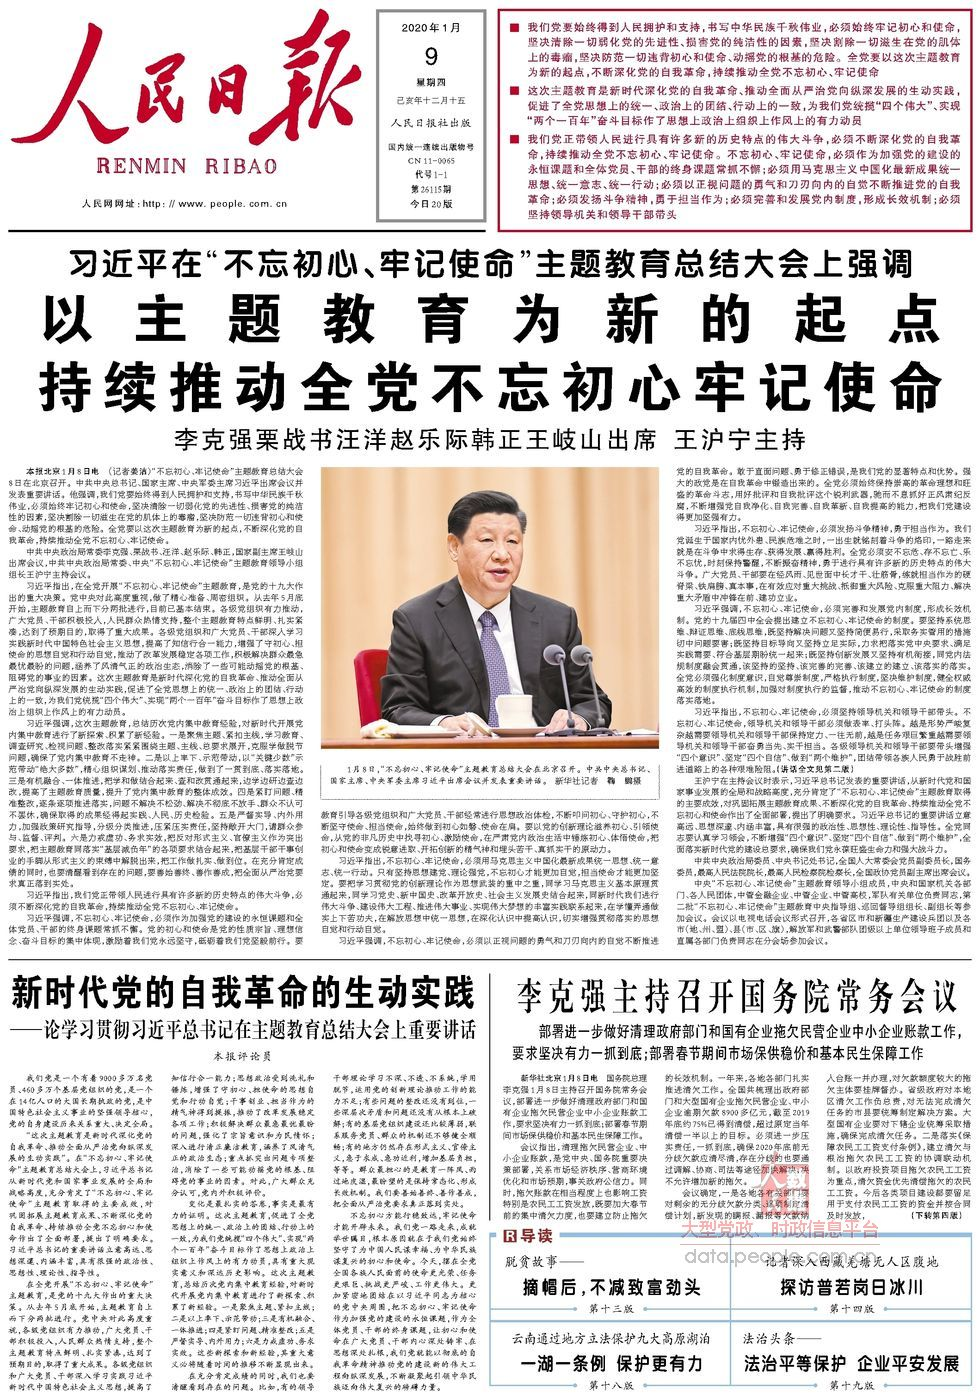pic: (317, 462, 664, 754)
